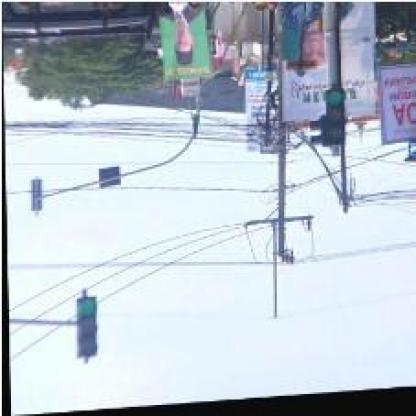green: (72, 297, 97, 359), (324, 91, 346, 151)
